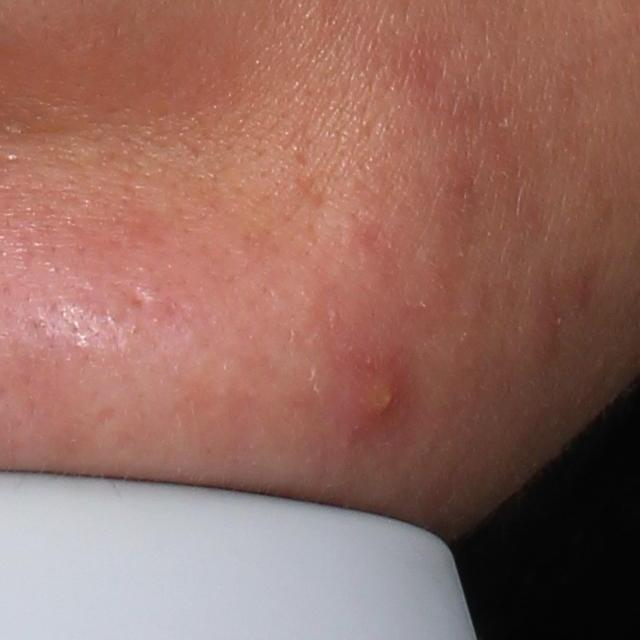atrophic_scar: (122, 287, 149, 311)
